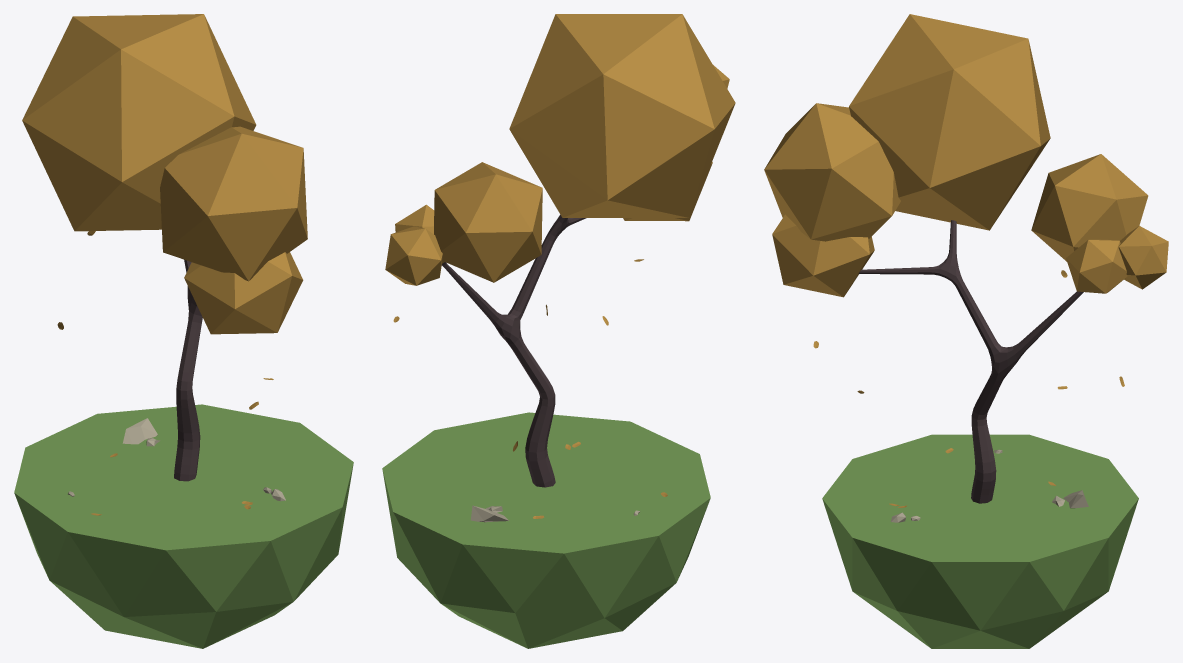
File: low_poly_early_autumn_tree.glb
3 renders of one model, left to right at view 1: azimuth 30°, elevation 25°; view 2: azimuth 150°, elevation 25°; view 3: azimuth 270°, elevation 25°, orthographic. The views are drawn at different scales.
Visible parts, largest first — view 1: Icosphere.004, Icosphere, Icosphere.005; view 2: Icosphere, Icosphere.004; view 3: Icosphere.004, Icosphere.
Boxes of the visible parts, box(x1,y1,x2,y2) form: Icosphere.004: box(22, 14, 307, 481); Icosphere: box(14, 404, 353, 648); Icosphere.005: box(122, 418, 157, 444); Icosphere: box(382, 412, 710, 648); Icosphere.004: box(385, 14, 735, 487); Icosphere.004: box(764, 14, 1168, 503); Icosphere: box(822, 434, 1138, 648).
Bounding box in the file's own units: 1016 × 1994 × 1255.
